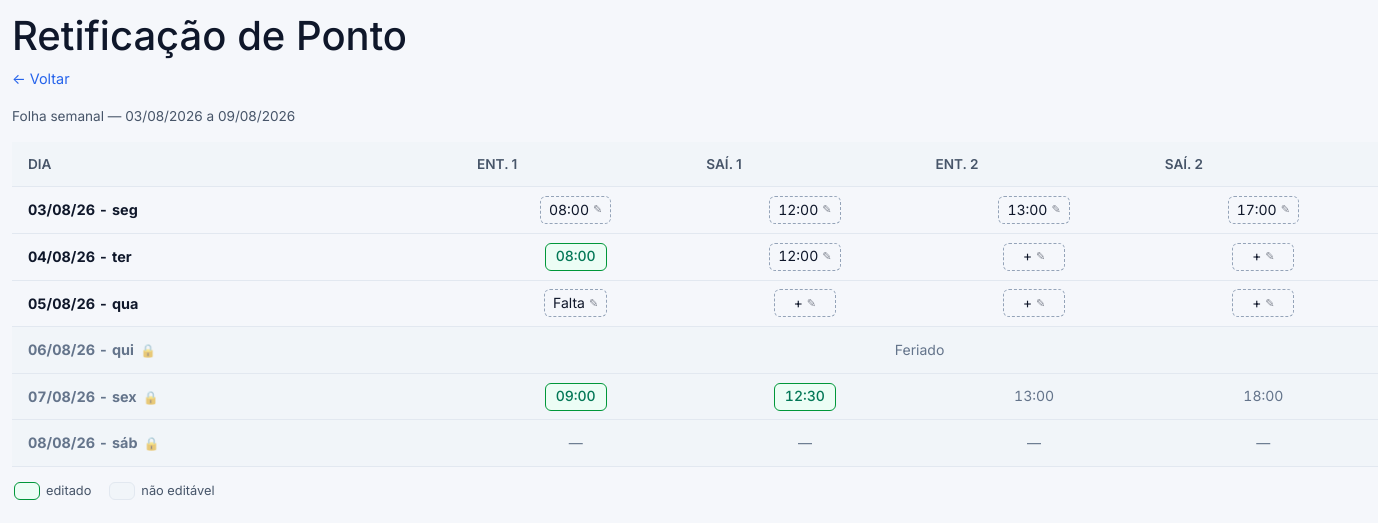
Test: PontoRetificarComponent › edição por célula › render: sair do campo com dois dígitos não grava
Click the button with class "chip" showing "08:00 ✎". click: x=576, y=210
box: [540,196,611,224]
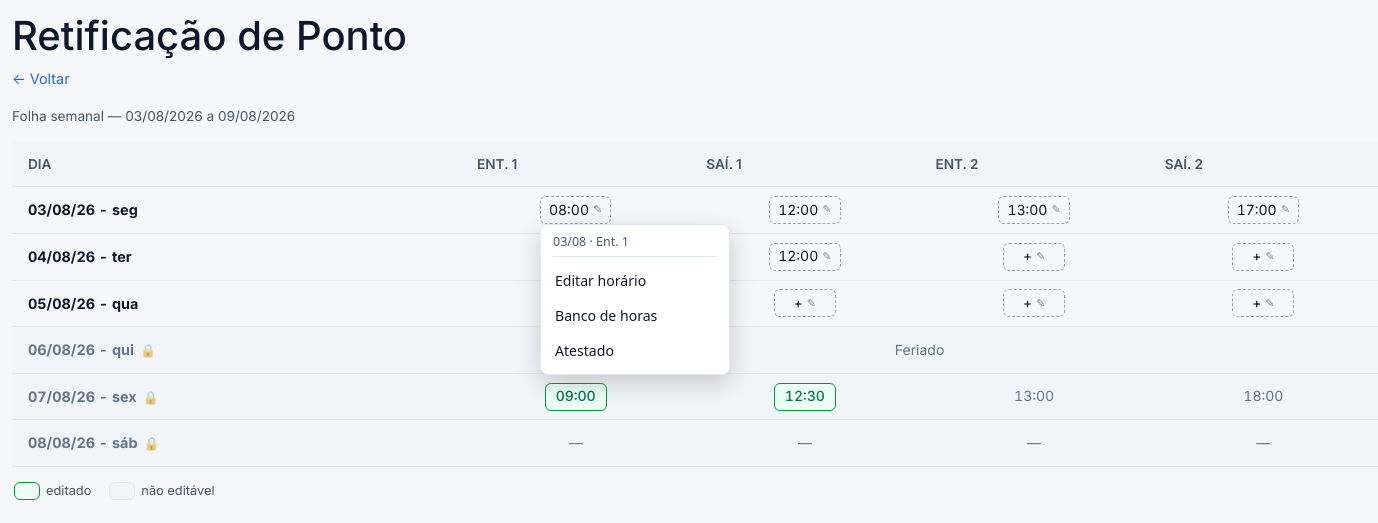
Click the button "Editar horário". click: x=635, y=280
box: [547,263,723,298]
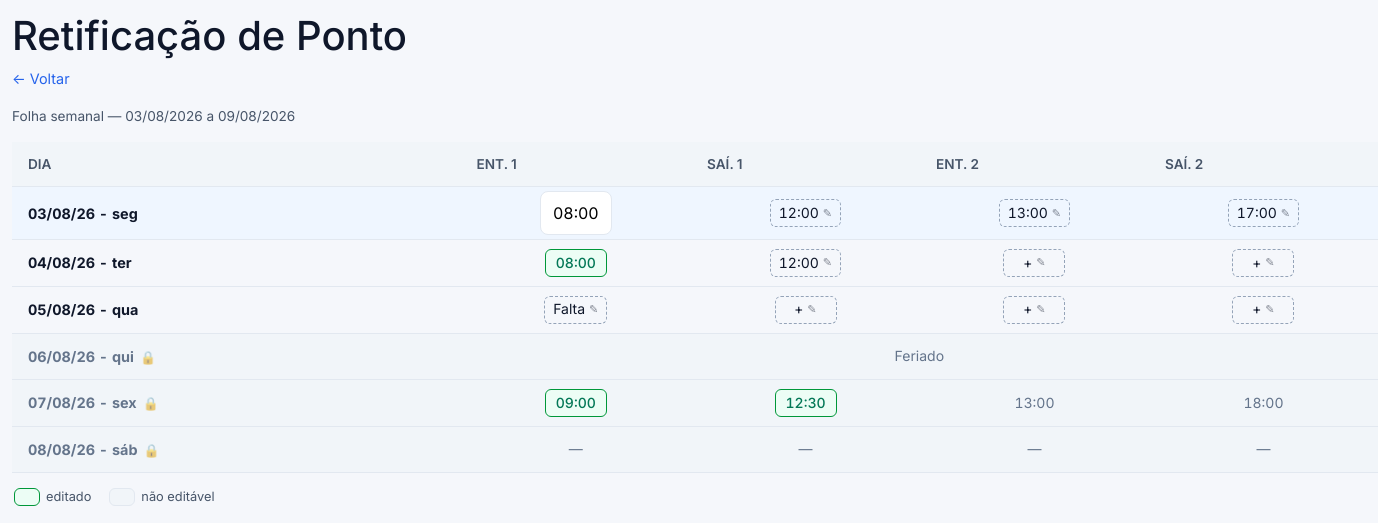
Replace the text in the field with class "cel-input" with "09". click: x=576, y=213
box: [540,191,612,235]
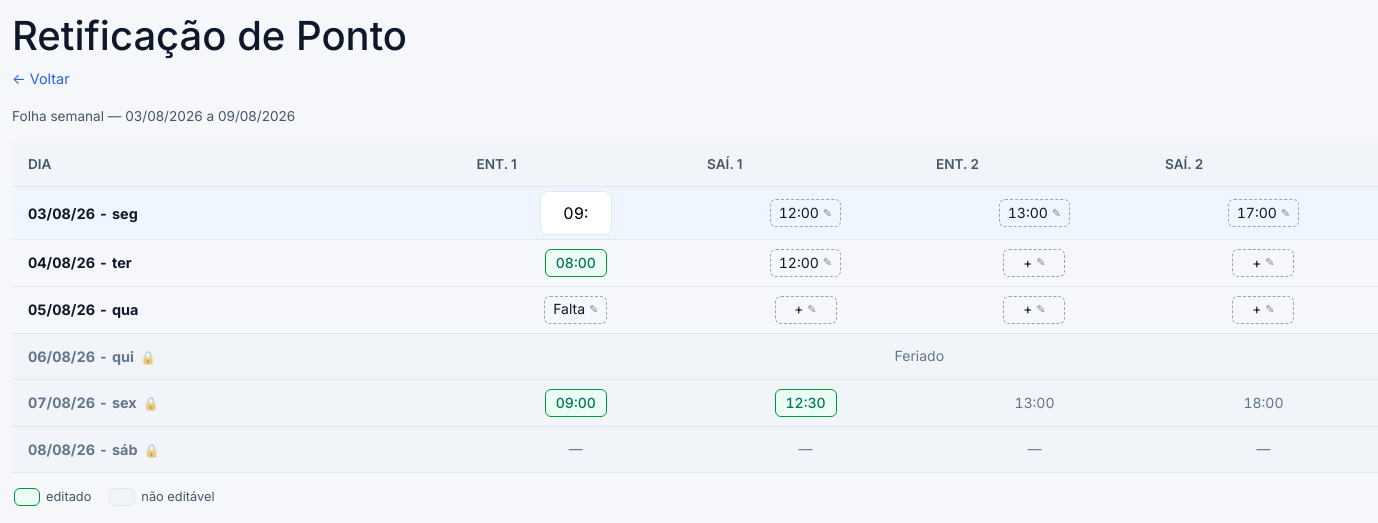
Leave the field with class "cel-input", box [540,191,612,235]
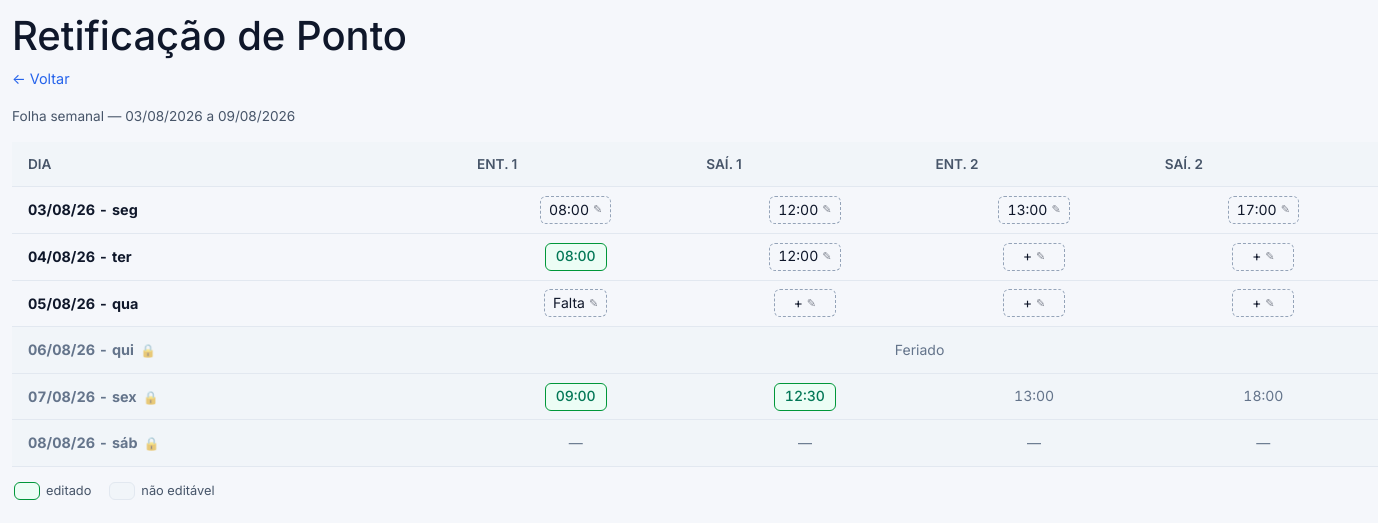
expect the field with class "cel-input" is gone: met
